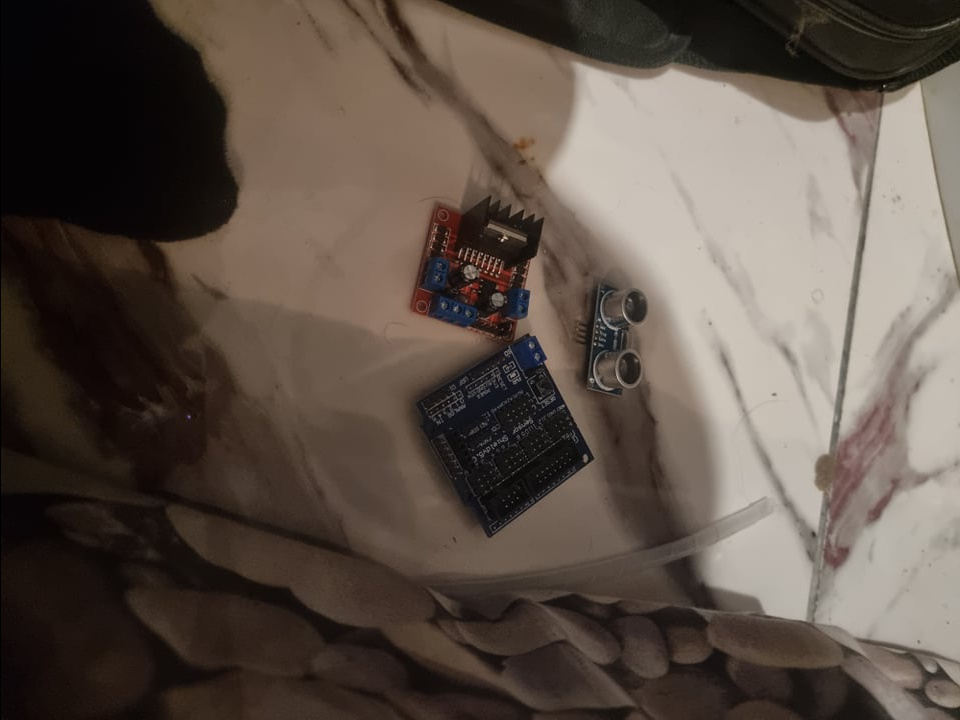5V EXPANSION: (414, 333, 595, 539)
MOTOR: (409, 196, 545, 341)
SENSOR: (583, 285, 647, 398)
